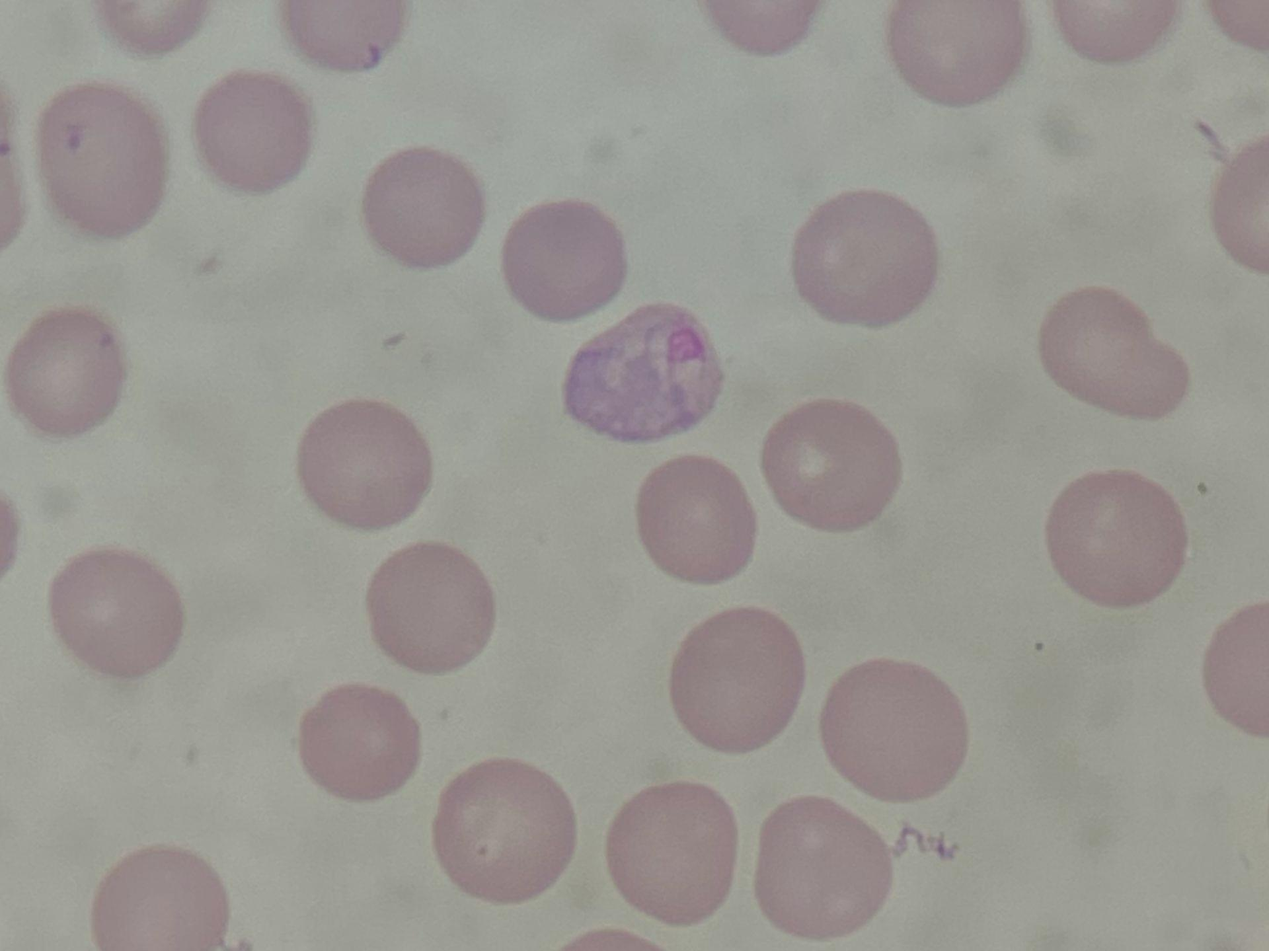Infected: (562, 303, 722, 448)
Uninfected: (1039, 289, 1193, 423), (38, 85, 170, 241), (669, 607, 807, 755), (435, 760, 574, 906), (791, 190, 938, 328), (606, 779, 741, 929), (1049, 470, 1190, 611), (753, 798, 893, 940), (825, 658, 963, 801), (758, 402, 901, 532), (296, 400, 433, 533), (48, 547, 187, 677), (368, 542, 498, 676), (91, 841, 233, 951), (5, 306, 125, 436), (639, 455, 758, 583), (195, 70, 314, 196), (297, 681, 418, 804), (502, 200, 626, 320), (894, 0, 1028, 106), (367, 149, 483, 271), (283, 0, 409, 71)
